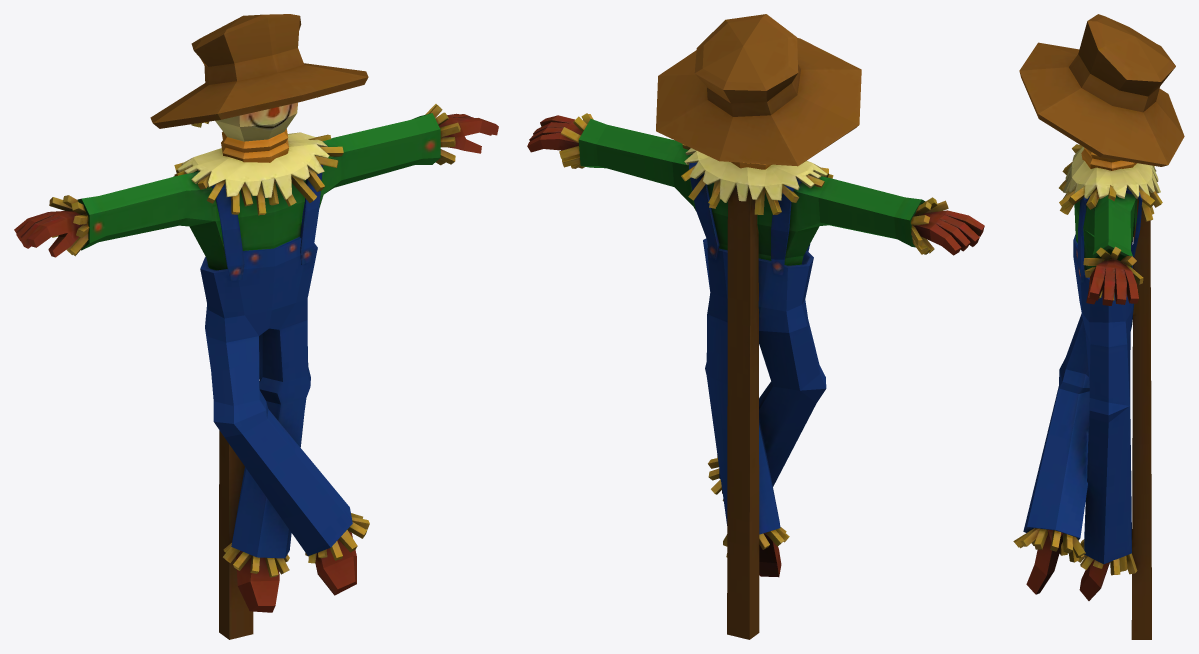
Rendered from scarecrow.glb.
3 renders of one model, left to right at view 1: azimuth 30°, elevation 25°; view 2: azimuth 150°, elevation 25°; view 3: azimuth 270°, elevation 25°, orthographic. The views are drawn at different scales.
Visible parts, largest first — view 1: Scarecrow_mesh; view 2: Scarecrow_mesh; view 3: Scarecrow_mesh.
Boxes of the visible parts, x1,y1,x2,y2 form: Scarecrow_mesh: (14, 14, 498, 639); Scarecrow_mesh: (527, 14, 984, 639); Scarecrow_mesh: (1013, 14, 1184, 639).
Bounding box in the file's own units: 2.65 × 3.43 × 0.8651.
Materials: 1 (1 with a texture image).
